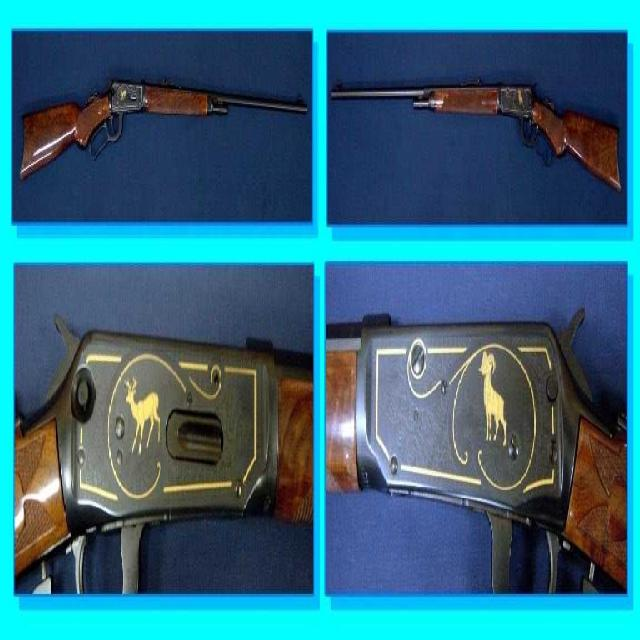heavyweapon: (331, 55, 640, 299), (4, 36, 314, 226)
